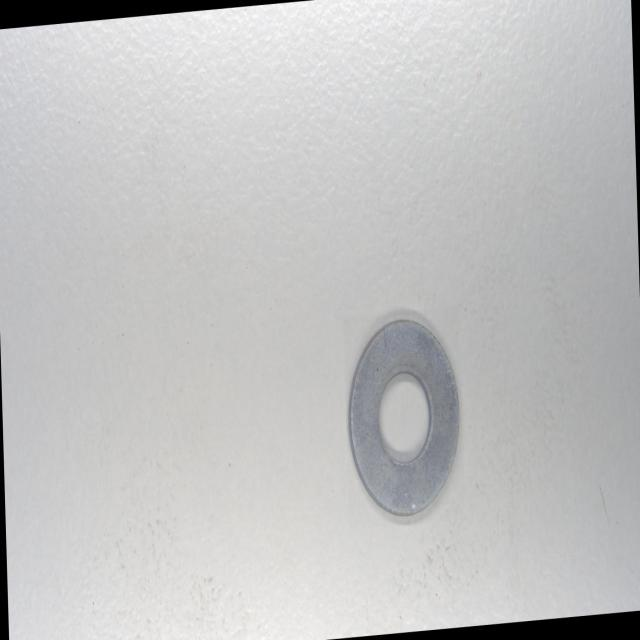washer: (346, 311, 462, 525)
